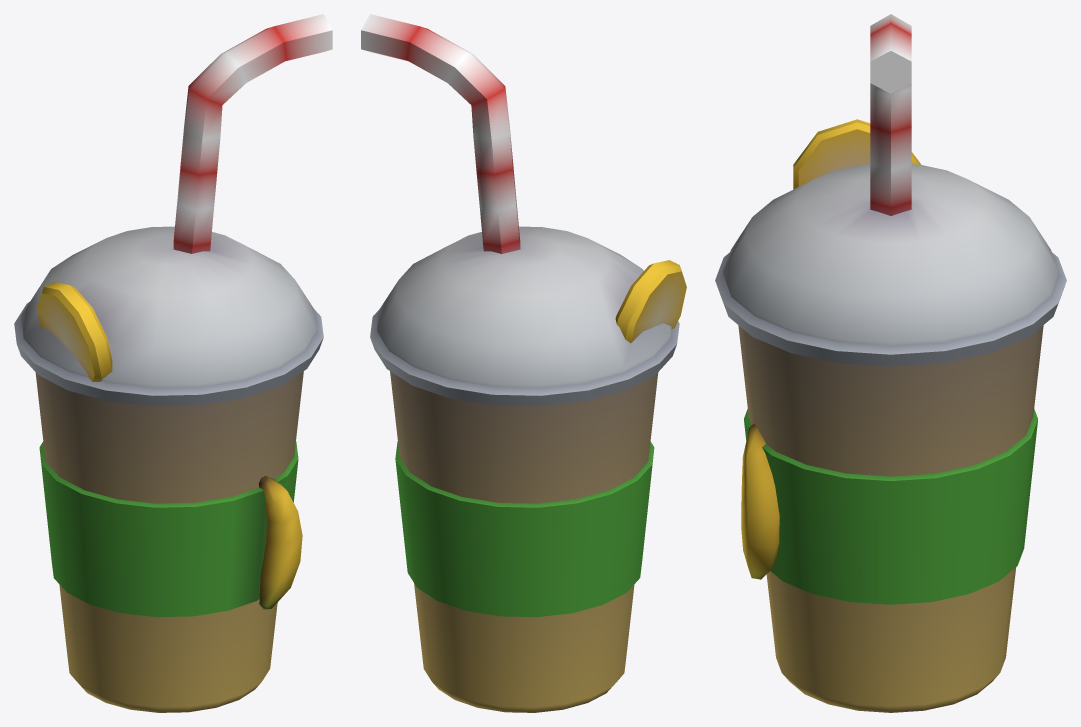
The model's file is smoothie.glb.
3 renders of one model, left to right at view 1: azimuth 30°, elevation 25°; view 2: azimuth 150°, elevation 25°; view 3: azimuth 270°, elevation 25°, orthographic. The views are drawn at different scales.
Visible parts, largest first — view 1: smoothie; view 2: smoothie; view 3: smoothie.
Boxes of the visible parts, <box> form: smoothie: <box>14,14,332,712</box>; smoothie: <box>361,14,686,712</box>; smoothie: <box>715,14,1066,712</box>.
Bounding box in the file's own units: 0.1348 × 0.2765 × 0.1255.
